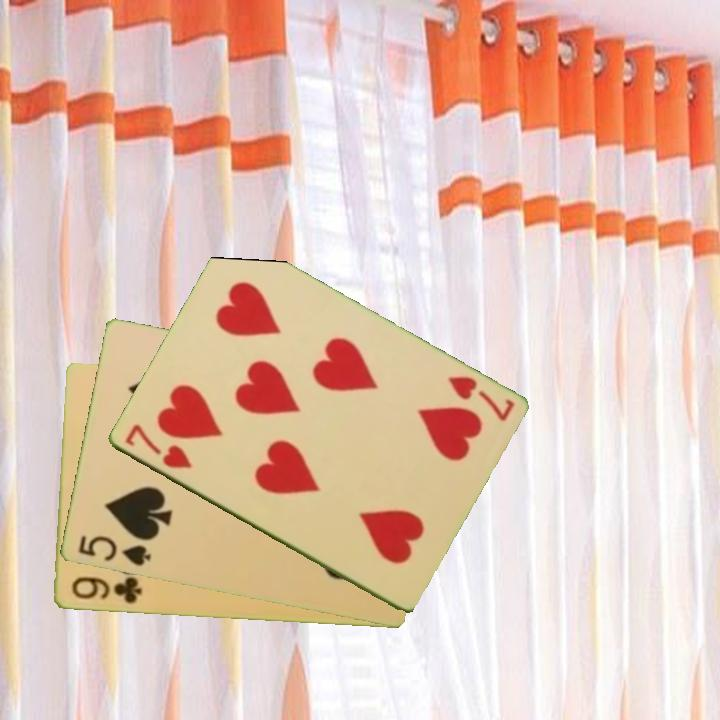5s: (74, 532, 154, 570)
7h: (443, 372, 517, 425), (121, 420, 195, 472)
9c: (68, 574, 145, 607)
